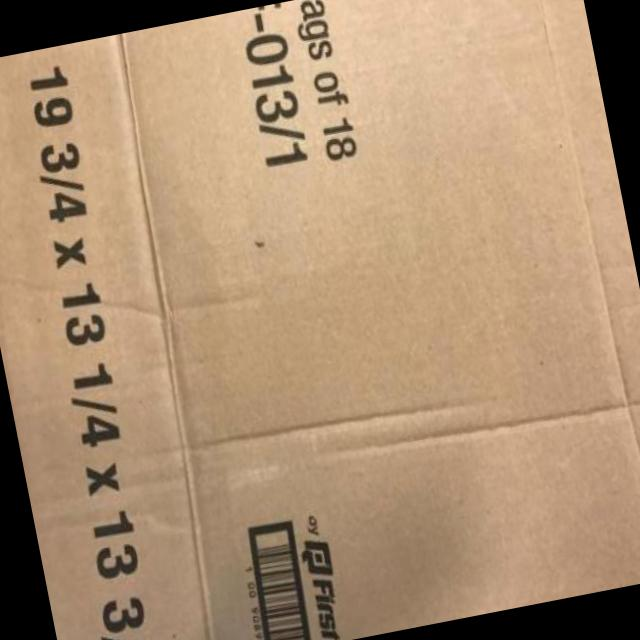cardboard paper: (125, 0, 622, 443), (0, 34, 208, 640), (198, 409, 640, 640)
